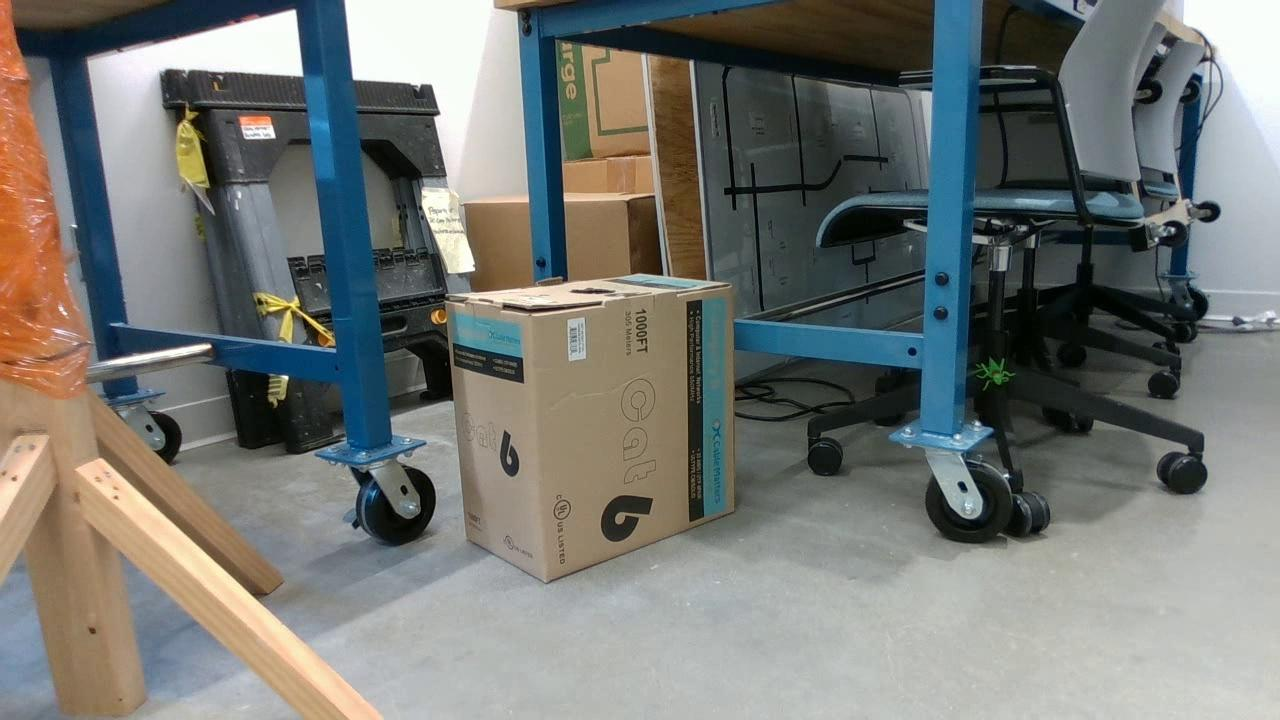grasshopper: (973, 355, 1012, 396)
